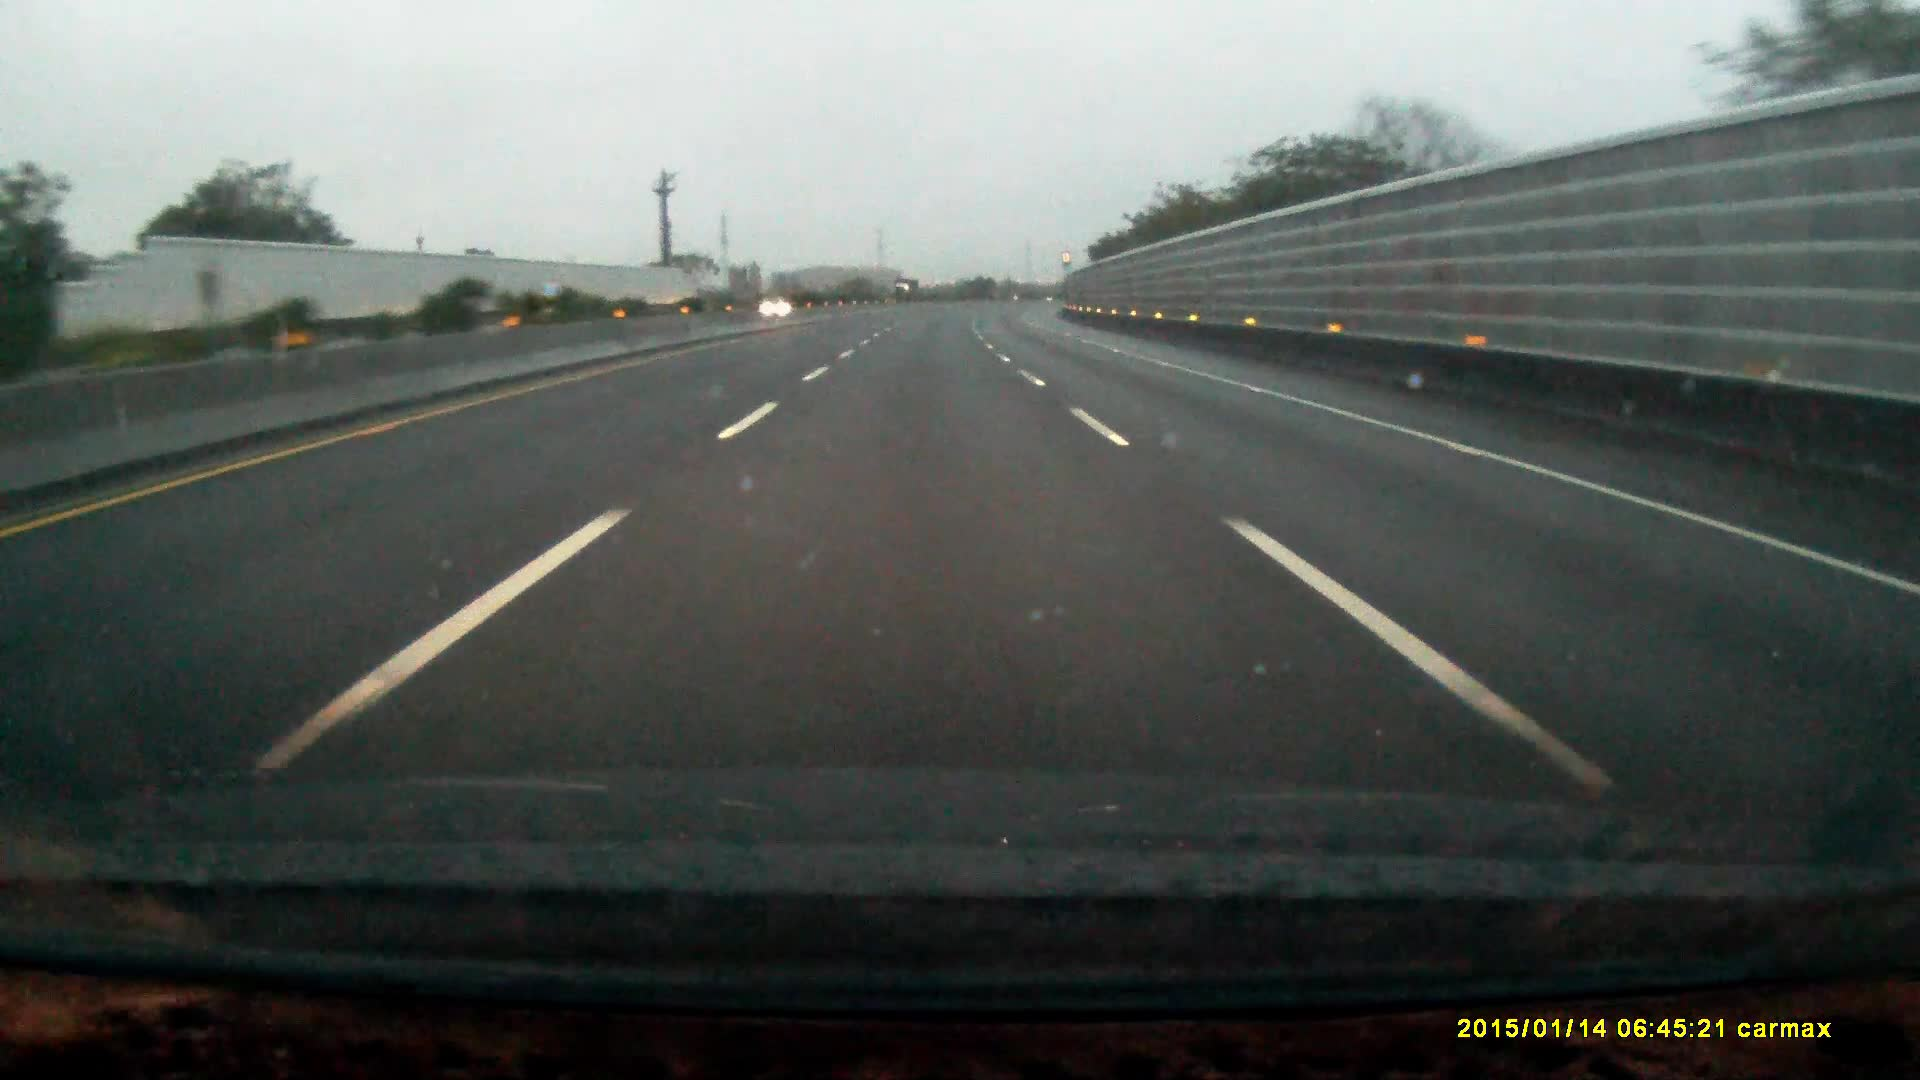vehicle: (894, 277, 920, 301)
